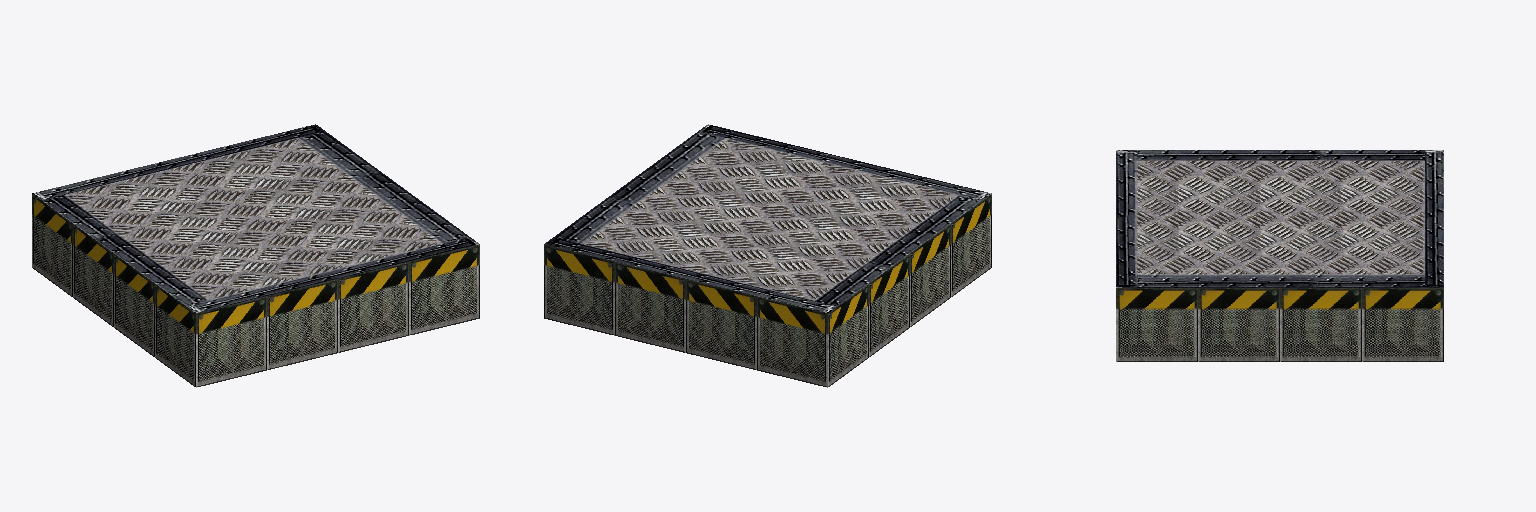
3 renders of one model, left to right at view 1: azimuth 30°, elevation 25°; view 2: azimuth 150°, elevation 25°; view 3: azimuth 270°, elevation 25°, orthographic.
Bounding box in the file's own units: 8 × 2 × 8.
1 materials, 1 textured.